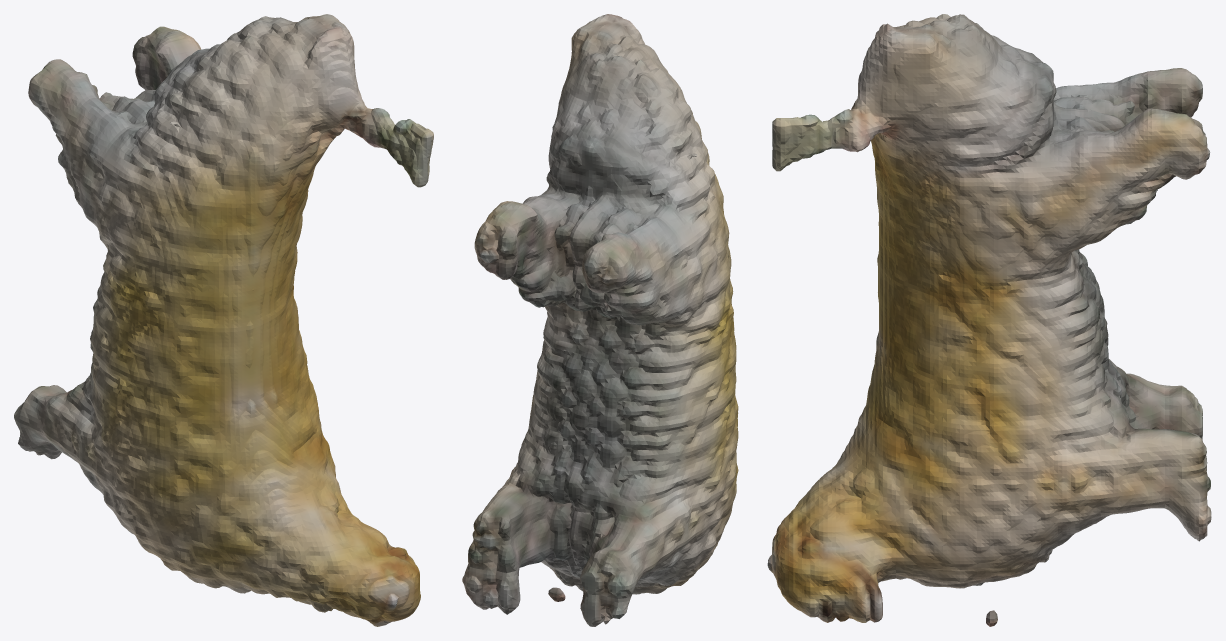
The picture shows the model from 3 angles, left to right: view 1: azimuth 30°, elevation 25°; view 2: azimuth 150°, elevation 25°; view 3: azimuth 270°, elevation 25°; orthographic projection. The views are drawn at different scales.
Parts seen in each view (by area): view 1: world; view 2: world; view 3: world.
Boxes of the visible parts, x1=… form: world: x1=14, y1=14, x2=433, y2=626; world: x1=462, y1=14, x2=738, y2=626; world: x1=767, y1=14, x2=1211, y2=626.
Size of the model in its own units: 0.4159 by 1.05 by 0.7095.
